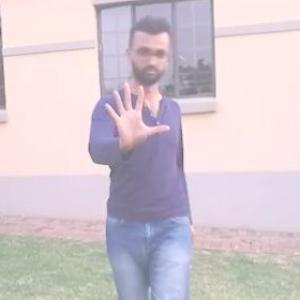follow_hand: (100, 77, 172, 152)
